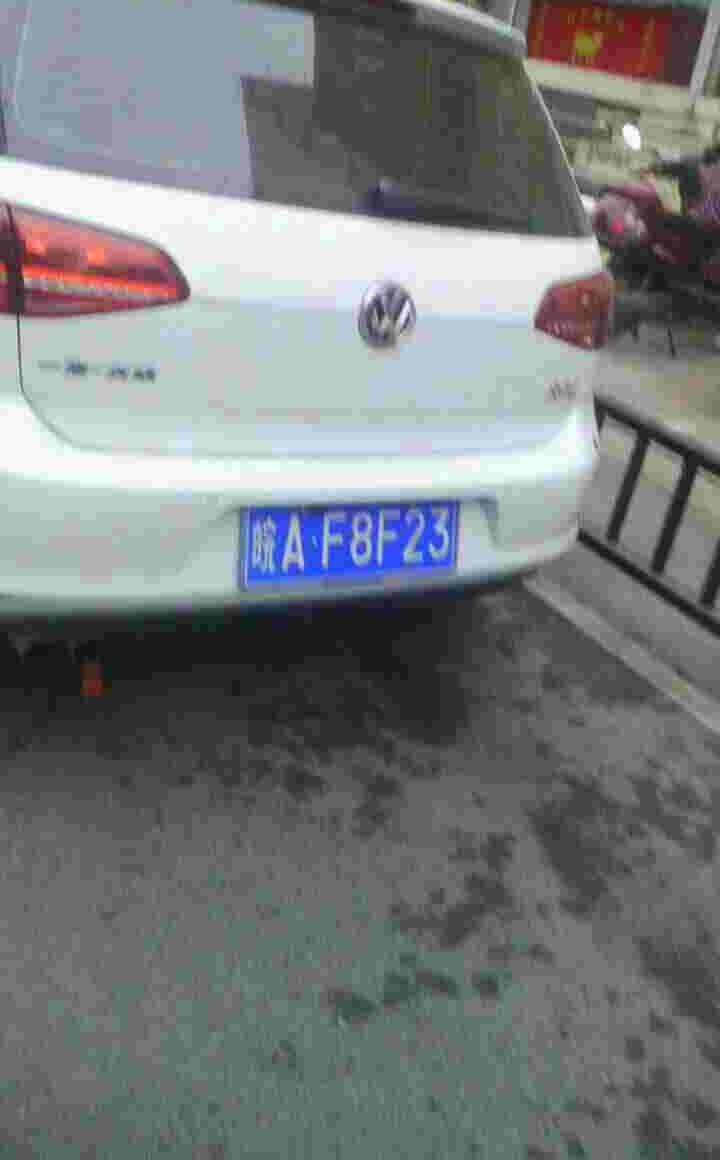license_plate: (249, 503, 454, 585)
